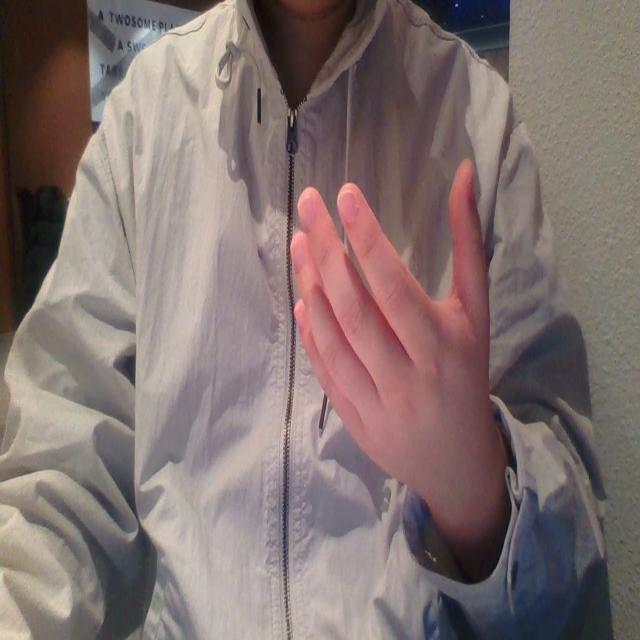hand: (281, 154, 501, 501)
